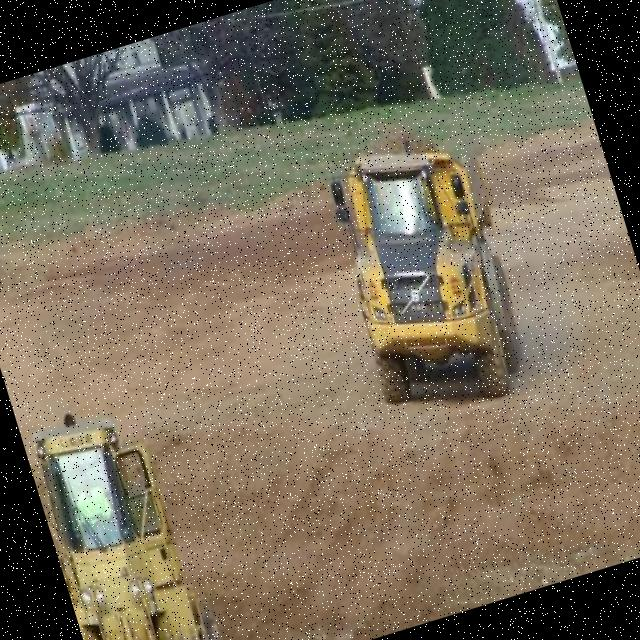Dump Truck: (308, 114, 546, 428)
